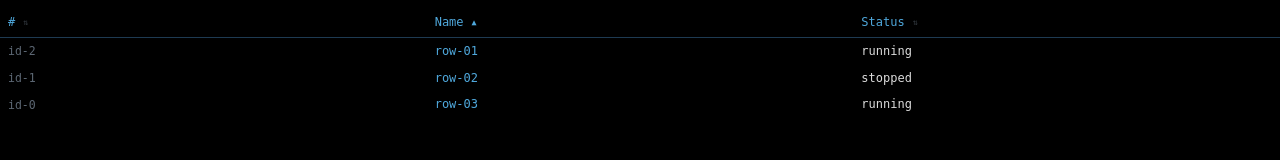
Test: DataTable — PR #31 react-table migration › shows ascending/descending indicators and dynamic aria-labels on the sorted column button
Click the button with aria-label "Sort by Name, ascending".
click(456, 22)  # box x1=435 y1=14 x2=477 y2=31
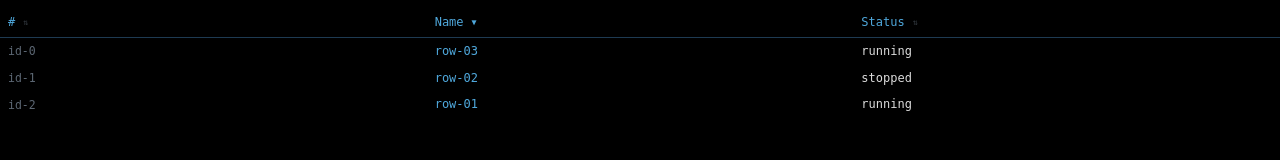
Expected: the button with aria-label "Sort by Name, descending" is shown, x1=435 y1=14 x2=477 y2=31
